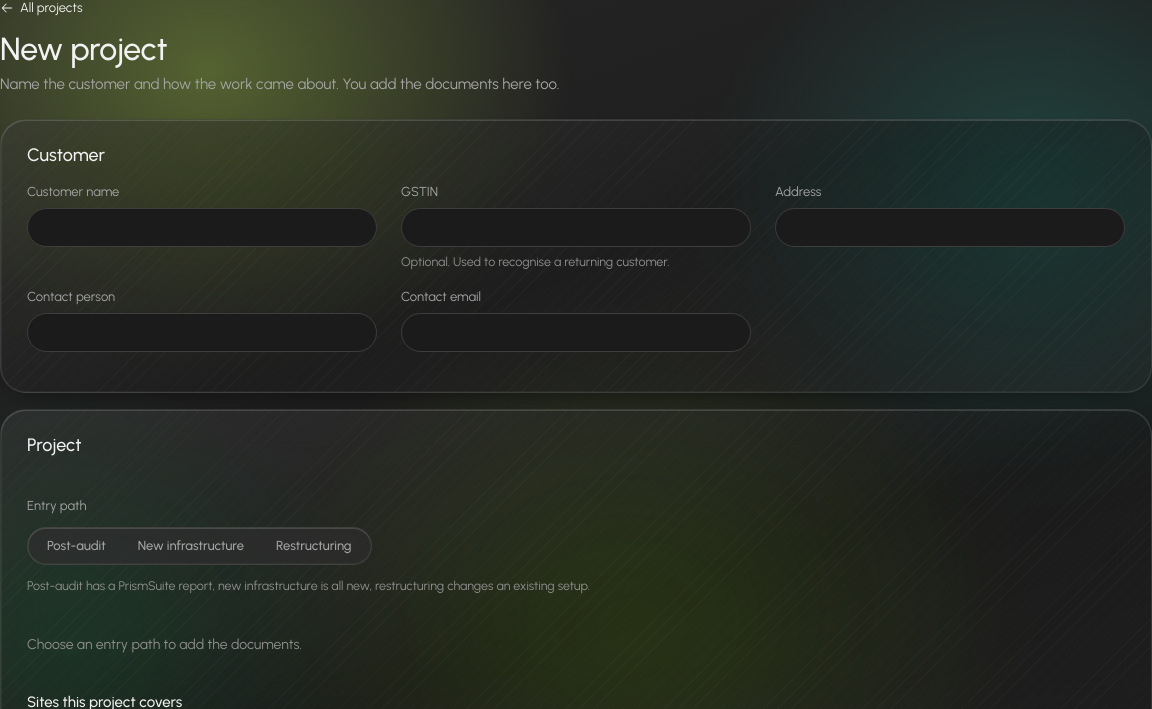
Test: new project › flags a GSTIN that is not in a valid format
Type "27AAAAA" into the field labelled "GSTIN" at (576, 227), box x1=401 y1=208 x2=751 y2=247
(page scrolled)
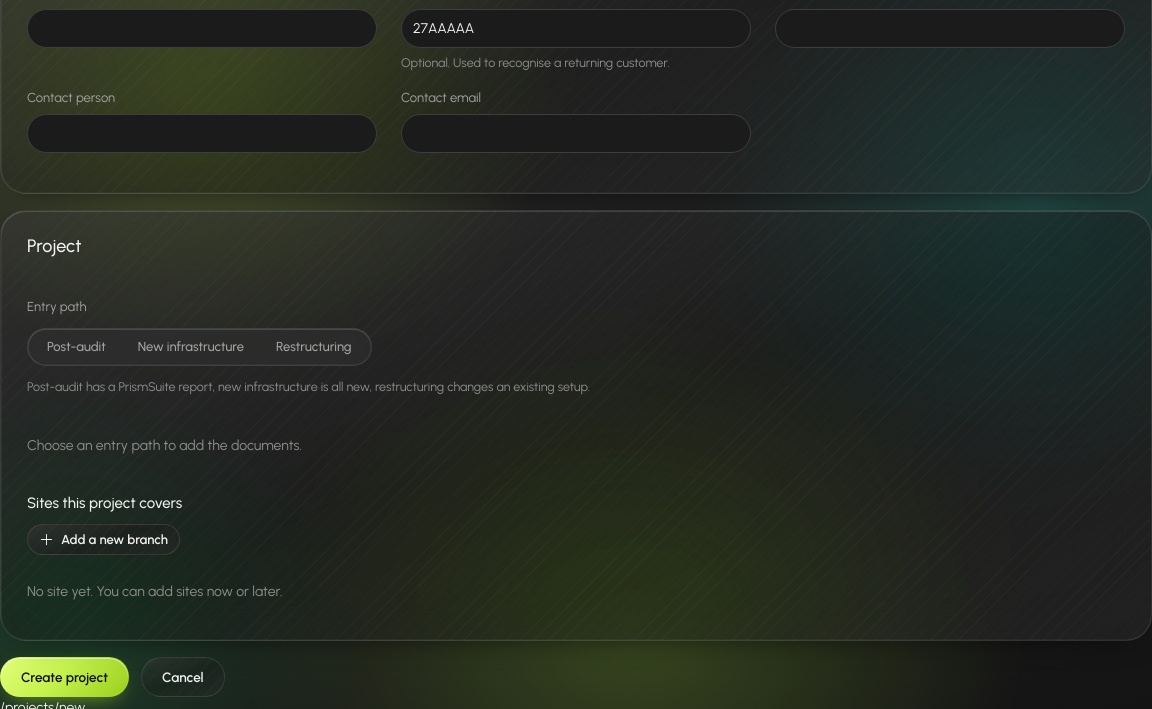
Click the button "Create project" at (65, 677), box x1=0 y1=657 x2=129 y2=698
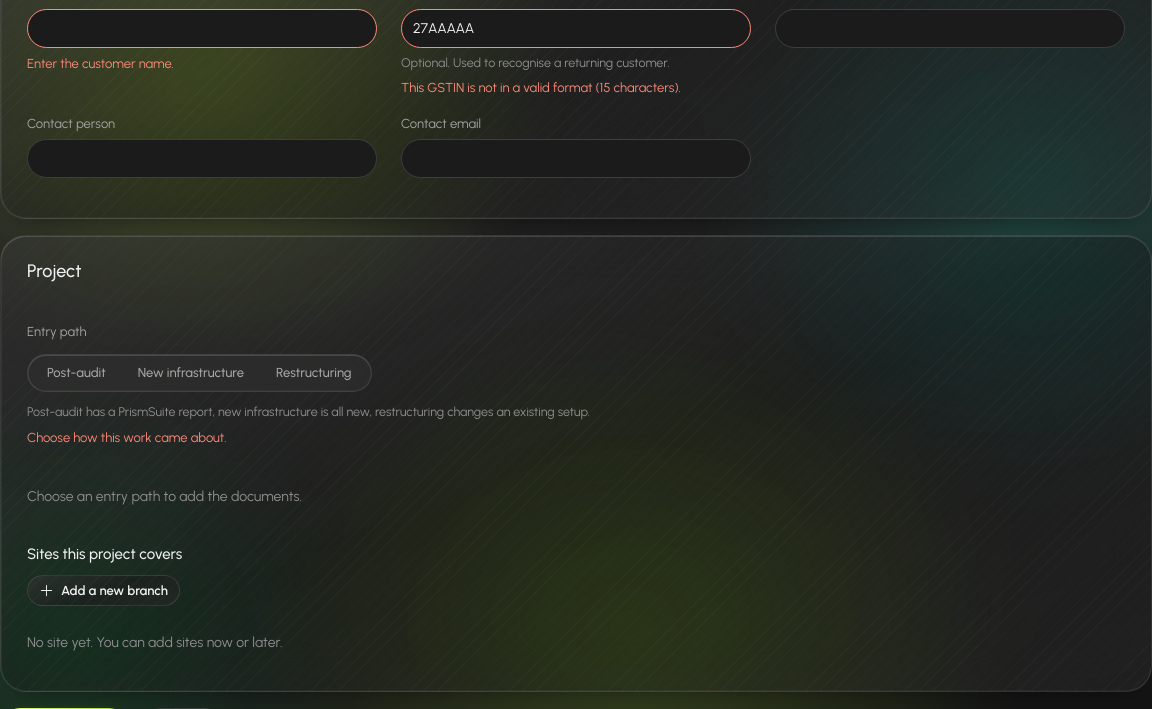
Expected: the text "This GSTIN is not in a valid format (15 characters)." is shown, x1=401 y1=80 x2=681 y2=95
